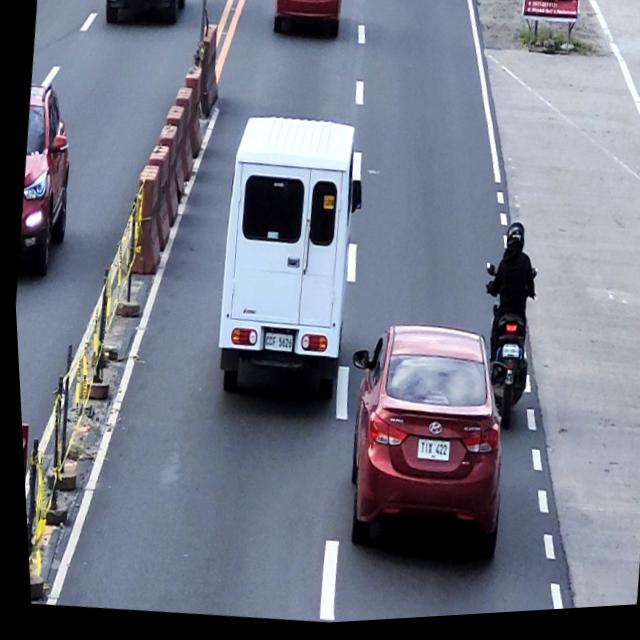Car: (199, 109, 377, 409), (323, 317, 517, 570), (6, 62, 84, 279), (270, 0, 344, 44), (99, 0, 190, 33)
License-Plate: (409, 440, 447, 468), (258, 332, 290, 357), (496, 346, 516, 366)
Motorcycle: (462, 263, 541, 439)
